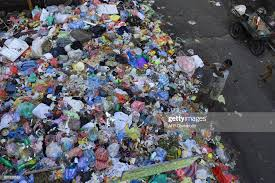garbage: (2, 12, 208, 183)
